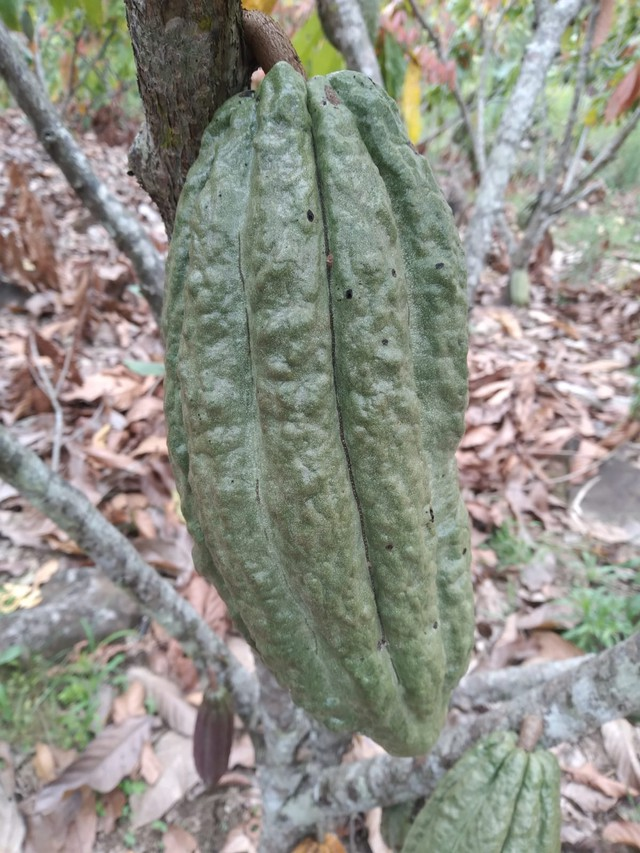Health: (148, 57, 493, 764)
